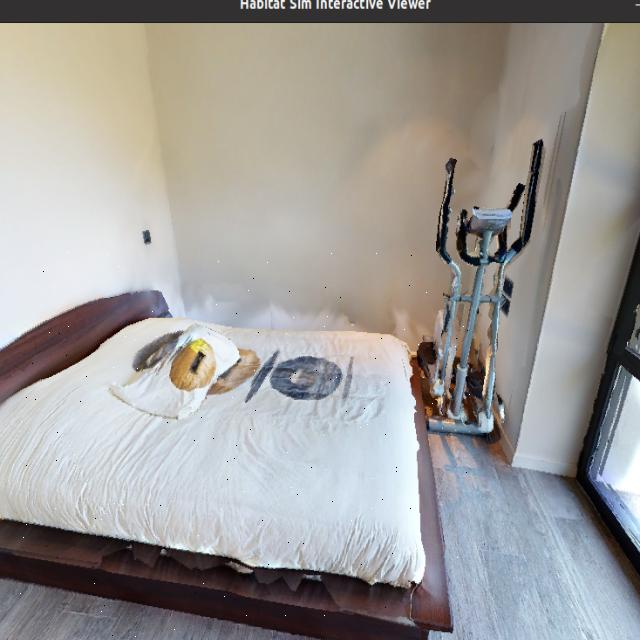bed: (0, 251, 473, 640)
